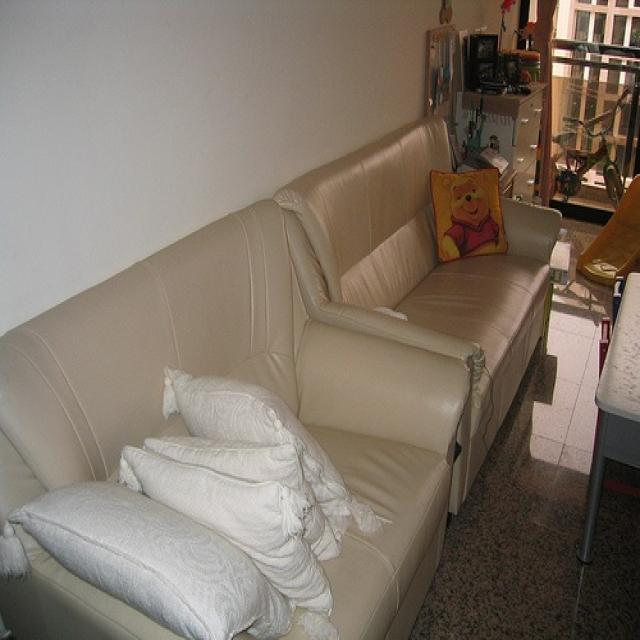bicycle: (553, 85, 631, 210)
sofa: (0, 200, 471, 638), (271, 111, 566, 512)
